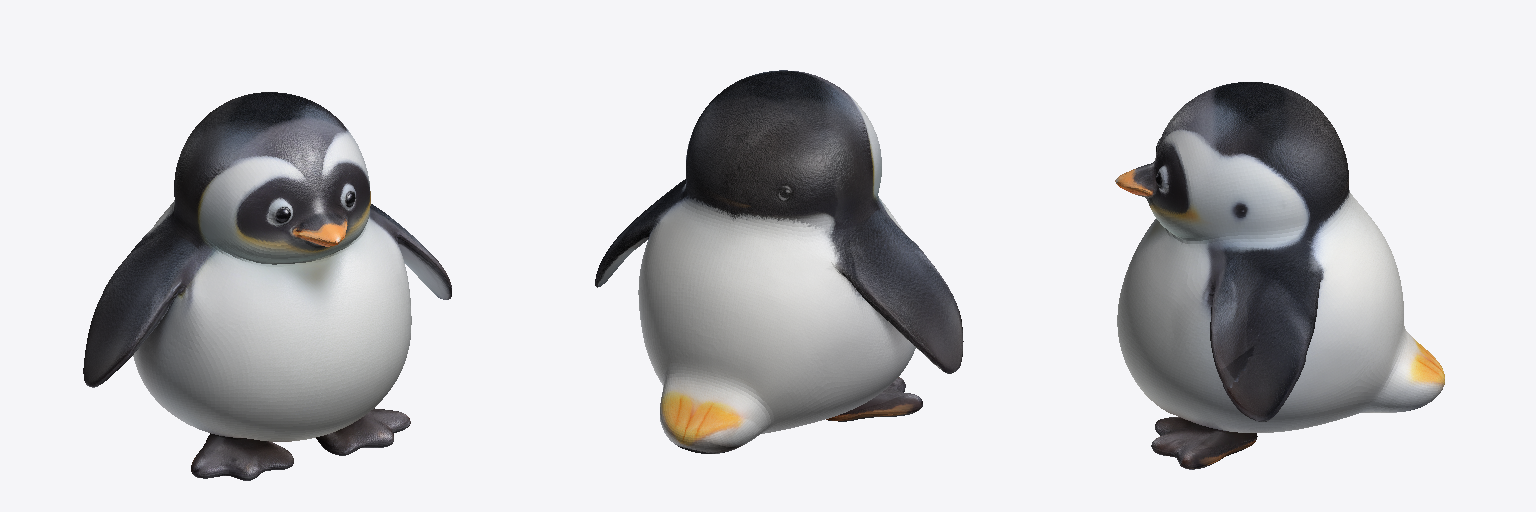
The picture shows the model from 3 angles: view 1: azimuth 30°, elevation 25°; view 2: azimuth 150°, elevation 25°; view 3: azimuth 270°, elevation 25°; orthographic projection.
Parts seen in each view (by area): view 1: Mesh1_Mesh1.094; view 2: Mesh1_Mesh1.094; view 3: Mesh1_Mesh1.094.
Part boxes in pixels (bbox=[...]): Mesh1_Mesh1.094: bbox=[83, 92, 451, 480]; Mesh1_Mesh1.094: bbox=[595, 70, 963, 453]; Mesh1_Mesh1.094: bbox=[1115, 82, 1444, 469].
Size of the model in its own units: 2 by 1.77 by 1.6.
Materials: 1 (1 with a texture image).